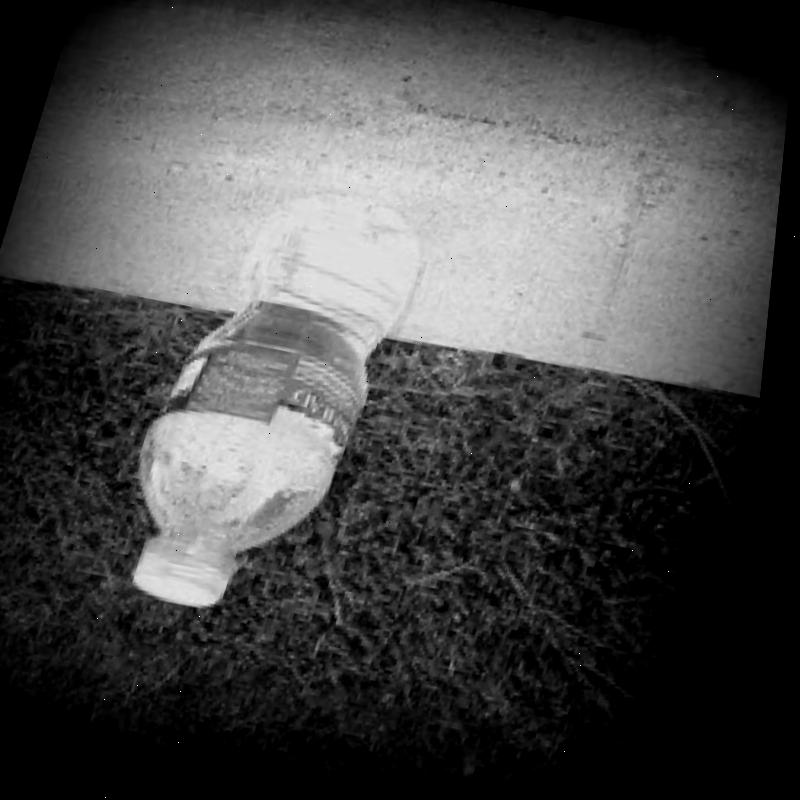botella: (105, 165, 446, 633)
